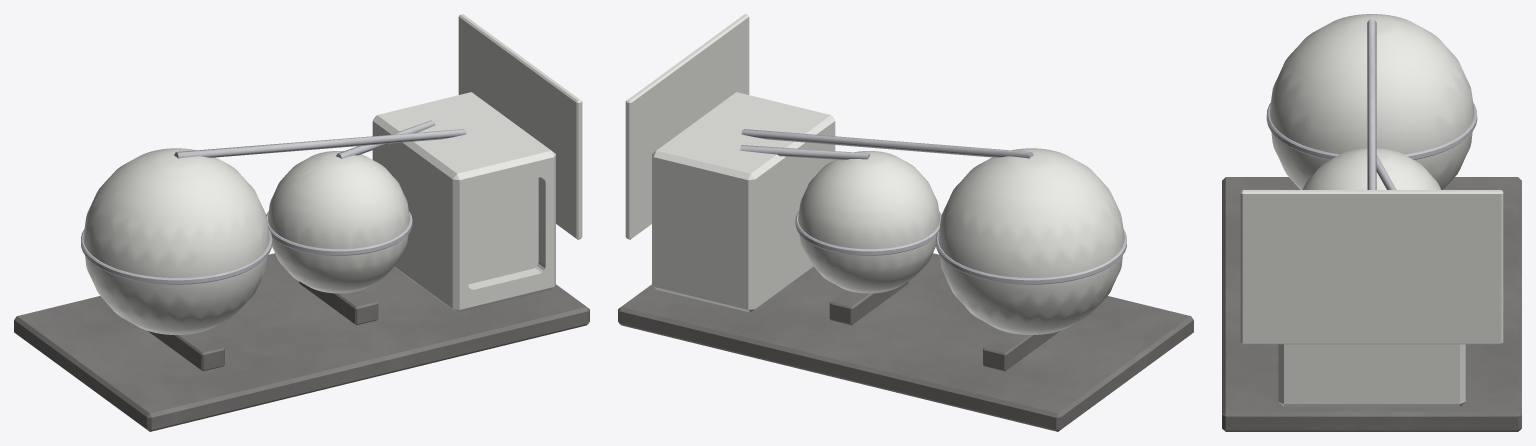
Rendered from ax_power_12_rfc_plant_m.glb.
3 renders of one model, left to right at view 1: azimuth 30°, elevation 25°; view 2: azimuth 150°, elevation 25°; view 3: azimuth 270°, elevation 25°, orthographic. The views are drawn at different scales.
Visible parts, largest first — view 1: skid, electrolyser_fuel_cell_stack, tank_h2, tank_o2, radiator_panel, plumbing, tank_saddles, tank_girth_rings; view 2: skid, electrolyser_fuel_cell_stack, tank_h2, tank_o2, radiator_panel, plumbing, tank_saddles, tank_girth_rings; view 3: radiator_panel, tank_h2, skid, electrolyser_fuel_cell_stack, tank_o2, plumbing, tank_girth_rings.
Part boxes in pixels (<box>): skid: <box>14,253,589,431</box>; electrolyser_fuel_cell_stack: <box>372,92,555,312</box>; tank_h2: <box>83,148,269,334</box>; tank_o2: <box>268,151,409,293</box>; radiator_panel: <box>458,14,582,239</box>; plumbing: <box>174,120,466,158</box>; tank_saddles: <box>148,281,378,371</box>; tank_girth_rings: <box>81,211,412,284</box>; skid: <box>618,253,1193,431</box>; electrolyser_fuel_cell_stack: <box>652,92,835,312</box>; tank_h2: <box>938,148,1124,334</box>; tank_o2: <box>798,151,939,293</box>; radiator_panel: <box>625,14,749,239</box>; plumbing: <box>740,129,1033,160</box>; tank_saddles: <box>829,281,1059,371</box>; tank_girth_rings: <box>795,211,1126,284</box>; radiator_panel: <box>1240,190,1503,344</box>; tank_h2: <box>1269,14,1474,189</box>; skid: <box>1222,177,1521,431</box>; electrolyser_fuel_cell_stack: <box>1278,344,1465,406</box>; tank_o2: <box>1303,147,1440,189</box>; plumbing: <box>1367,19,1396,189</box>; tank_girth_rings: <box>1266,103,1477,159</box>.
Size of the model in its own units: 3 by 1.42 by 1.6.
Materials: 3 (2 with a texture image).
